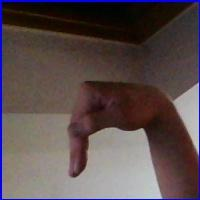A: (60, 75, 178, 182)
